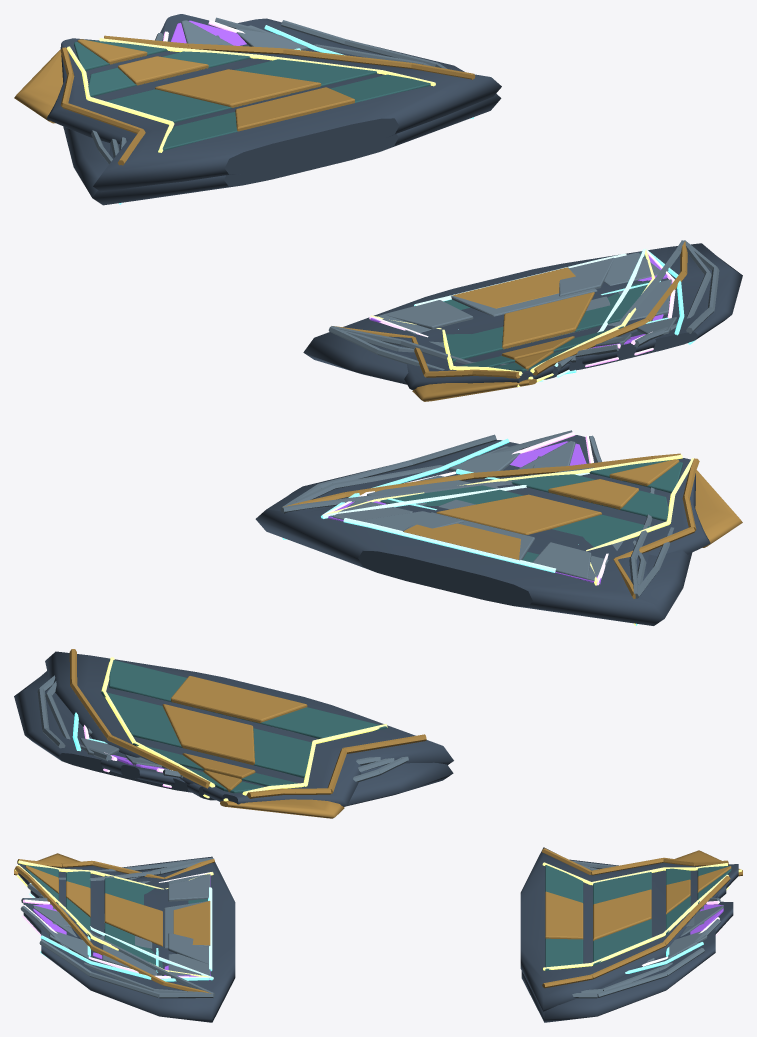
The model's file is wings.glb.
3 renders of one model, top to bottom at view 1: azimuth 30°, elevation 25°; view 2: azimuth 150°, elevation 25°; view 3: azimuth 270°, elevation 25°, orthographic. The views are drawn at different scales.
Visible parts, largest first — view 1: w_phantom Fitting gunmetal, w_phantom Champagne gold edging, w_phantom Phantom blue-black enamel, w_vane Fitting gunmetal, w_razor Fitting gunmetal, w_vane Brushed fitting edges, w_prism Brushed fitting edges, w_razor Brushed fitting edges, w_phantom w_phantom emitter, w_prism Fitting gunmetal, w_prism Violet prismatic glass, w_vane w_vane emitter (+2 smaller); view 2: w_phantom Champagne gold edging, w_razor Fitting gunmetal, w_phantom Fitting gunmetal, w_phantom Phantom blue-black enamel, w_vane Fitting gunmetal, w_vane Brushed fitting edges, w_prism Brushed fitting edges, w_razor Brushed fitting edges, w_phantom w_phantom emitter, w_razor w_razor emitter, w_vane w_vane emitter, w_prism Fitting gunmetal (+2 smaller); view 3: w_phantom Champagne gold edging, w_phantom Fitting gunmetal, w_phantom Phantom blue-black enamel, w_vane Fitting gunmetal, w_vane Brushed fitting edges, w_razor Fitting gunmetal, w_prism Brushed fitting edges, w_razor Brushed fitting edges, w_phantom w_phantom emitter, w_vane w_vane emitter, w_prism w_prism emitter, w_razor w_razor emitter (+2 smaller).
Part boxes in pixels (left/top/right/bottom): w_phantom Fitting gunmetal: left=46, top=38, right=668, bottom=389; w_phantom Champagne gold edging: left=14, top=35, right=687, bottom=401; w_phantom Phantom blue-black enamel: left=74, top=40, right=650, bottom=371; w_vane Fitting gunmetal: left=63, top=18, right=742, bottom=384; w_razor Fitting gunmetal: left=92, top=93, right=667, bottom=379; w_vane Brushed fitting edges: left=91, top=20, right=719, bottom=370; w_prism Brushed fitting edges: left=110, top=17, right=711, bottom=357; w_razor Brushed fitting edges: left=119, top=137, right=684, bottom=369; w_phantom w_phantom emitter: left=66, top=38, right=654, bottom=386; w_prism Fitting gunmetal: left=160, top=14, right=693, bottom=364; w_prism Violet prismatic glass: left=170, top=20, right=672, bottom=348; w_vane w_vane emitter: left=119, top=25, right=695, bottom=374; w_phantom Champagne gold edging: left=69, top=453, right=742, bottom=818; w_razor Fitting gunmetal: left=187, top=501, right=664, bottom=800; w_phantom Fitting gunmetal: left=45, top=458, right=710, bottom=806; w_phantom Phantom blue-black enamel: left=101, top=460, right=682, bottom=793; w_vane Fitting gunmetal: left=14, top=440, right=691, bottom=806; w_vane Brushed fitting edges: left=37, top=434, right=673, bottom=782; w_prism Brushed fitting edges: left=45, top=430, right=646, bottom=777; w_razor Brushed fitting edges: left=180, top=467, right=654, bottom=777; w_phantom w_phantom emitter: left=101, top=454, right=693, bottom=801; w_razor w_razor emitter: left=283, top=472, right=589, bottom=572; w_vane w_vane emitter: left=72, top=438, right=637, bottom=751; w_prism Fitting gunmetal: left=97, top=435, right=595, bottom=785; w_phantom Champagne gold edging: left=14, top=848, right=742, bottom=993; w_phantom Fitting gunmetal: left=18, top=847, right=738, bottom=1012; w_phantom Phantom blue-black enamel: left=25, top=865, right=731, bottom=975; w_vane Fitting gunmetal: left=41, top=856, right=715, bottom=1022; w_vane Brushed fitting edges: left=39, top=857, right=707, bottom=998; w_razor Fitting gunmetal: left=30, top=857, right=726, bottom=1022; w_prism Brushed fitting edges: left=20, top=859, right=723, bottom=993; w_razor Brushed fitting edges: left=27, top=857, right=712, bottom=997; w_phantom w_phantom emitter: left=15, top=860, right=741, bottom=977; w_vane w_vane emitter: left=40, top=899, right=703, bottom=981; w_prism w_prism emitter: left=22, top=872, right=720, bottom=978; w_razor w_razor emitter: left=29, top=883, right=213, bottom=979.
Bounding box in the file's own units: 34.2 × 5.04 × 67.05.
